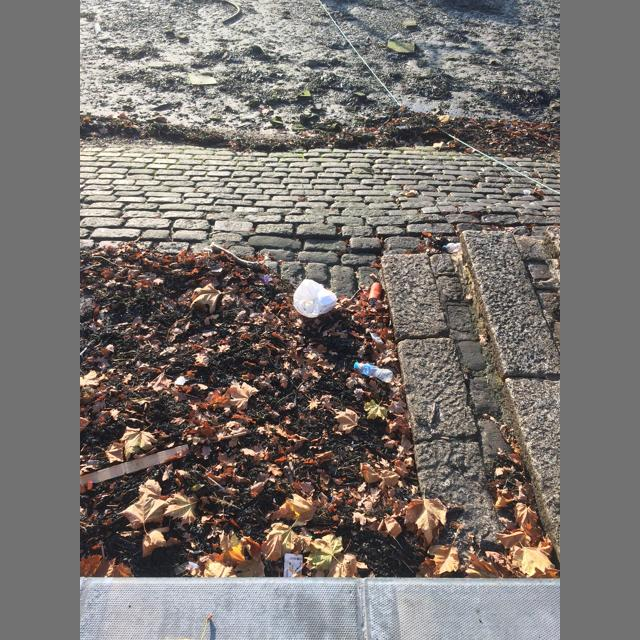litter: (294, 279, 337, 318), (354, 362, 393, 383), (284, 553, 302, 577), (174, 562, 200, 575), (368, 282, 382, 306)
